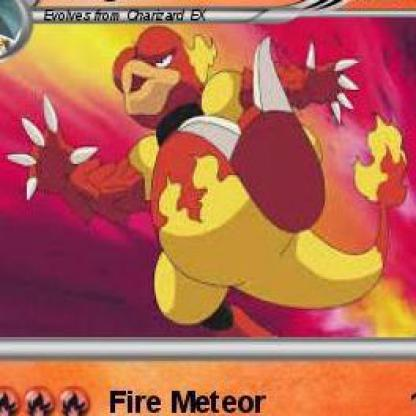Magmar: (2, 1, 405, 416)
